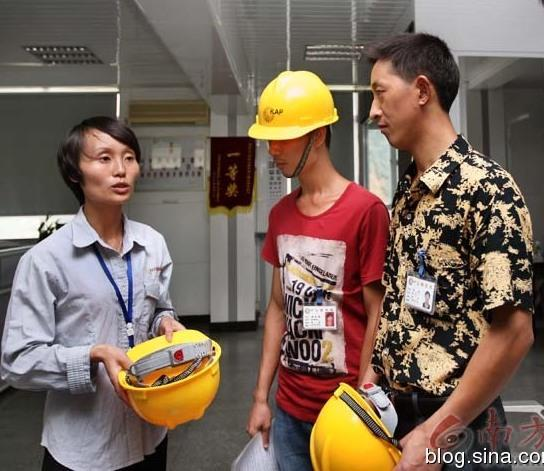helmet: (310, 381, 413, 471), (122, 347, 221, 428), (244, 60, 339, 136)
no-gloves: (91, 336, 140, 407), (396, 420, 464, 471), (149, 315, 207, 349), (241, 395, 279, 443)
no-helmet: (365, 29, 470, 96), (63, 117, 147, 173)
no-vest: (27, 215, 171, 462), (271, 208, 380, 401), (391, 171, 501, 362)
person: (354, 20, 526, 471), (6, 110, 197, 471), (225, 62, 382, 471)
